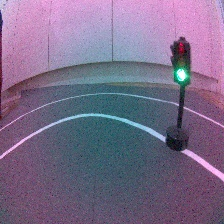green: (166, 36, 192, 152)
